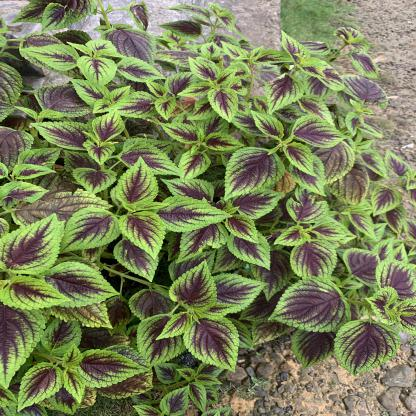Bunga Coleus: (13, 33, 401, 337)
